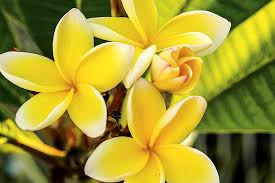frangipani: (1, 8, 130, 138)
